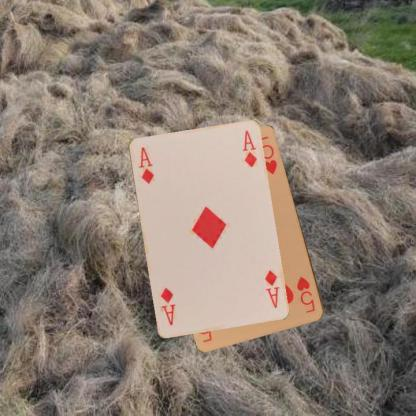5h: (294, 274, 317, 314)
Ad: (136, 144, 155, 186), (262, 268, 280, 309)
